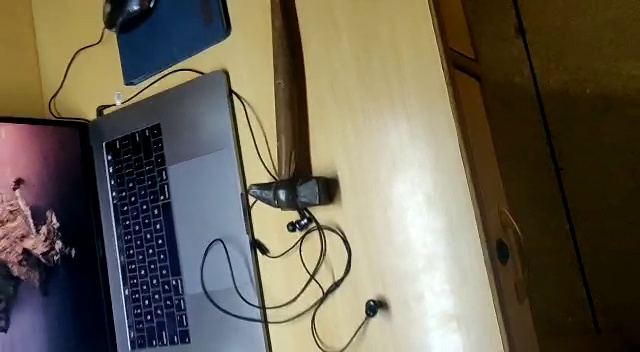hammer: (247, 1, 339, 210)
